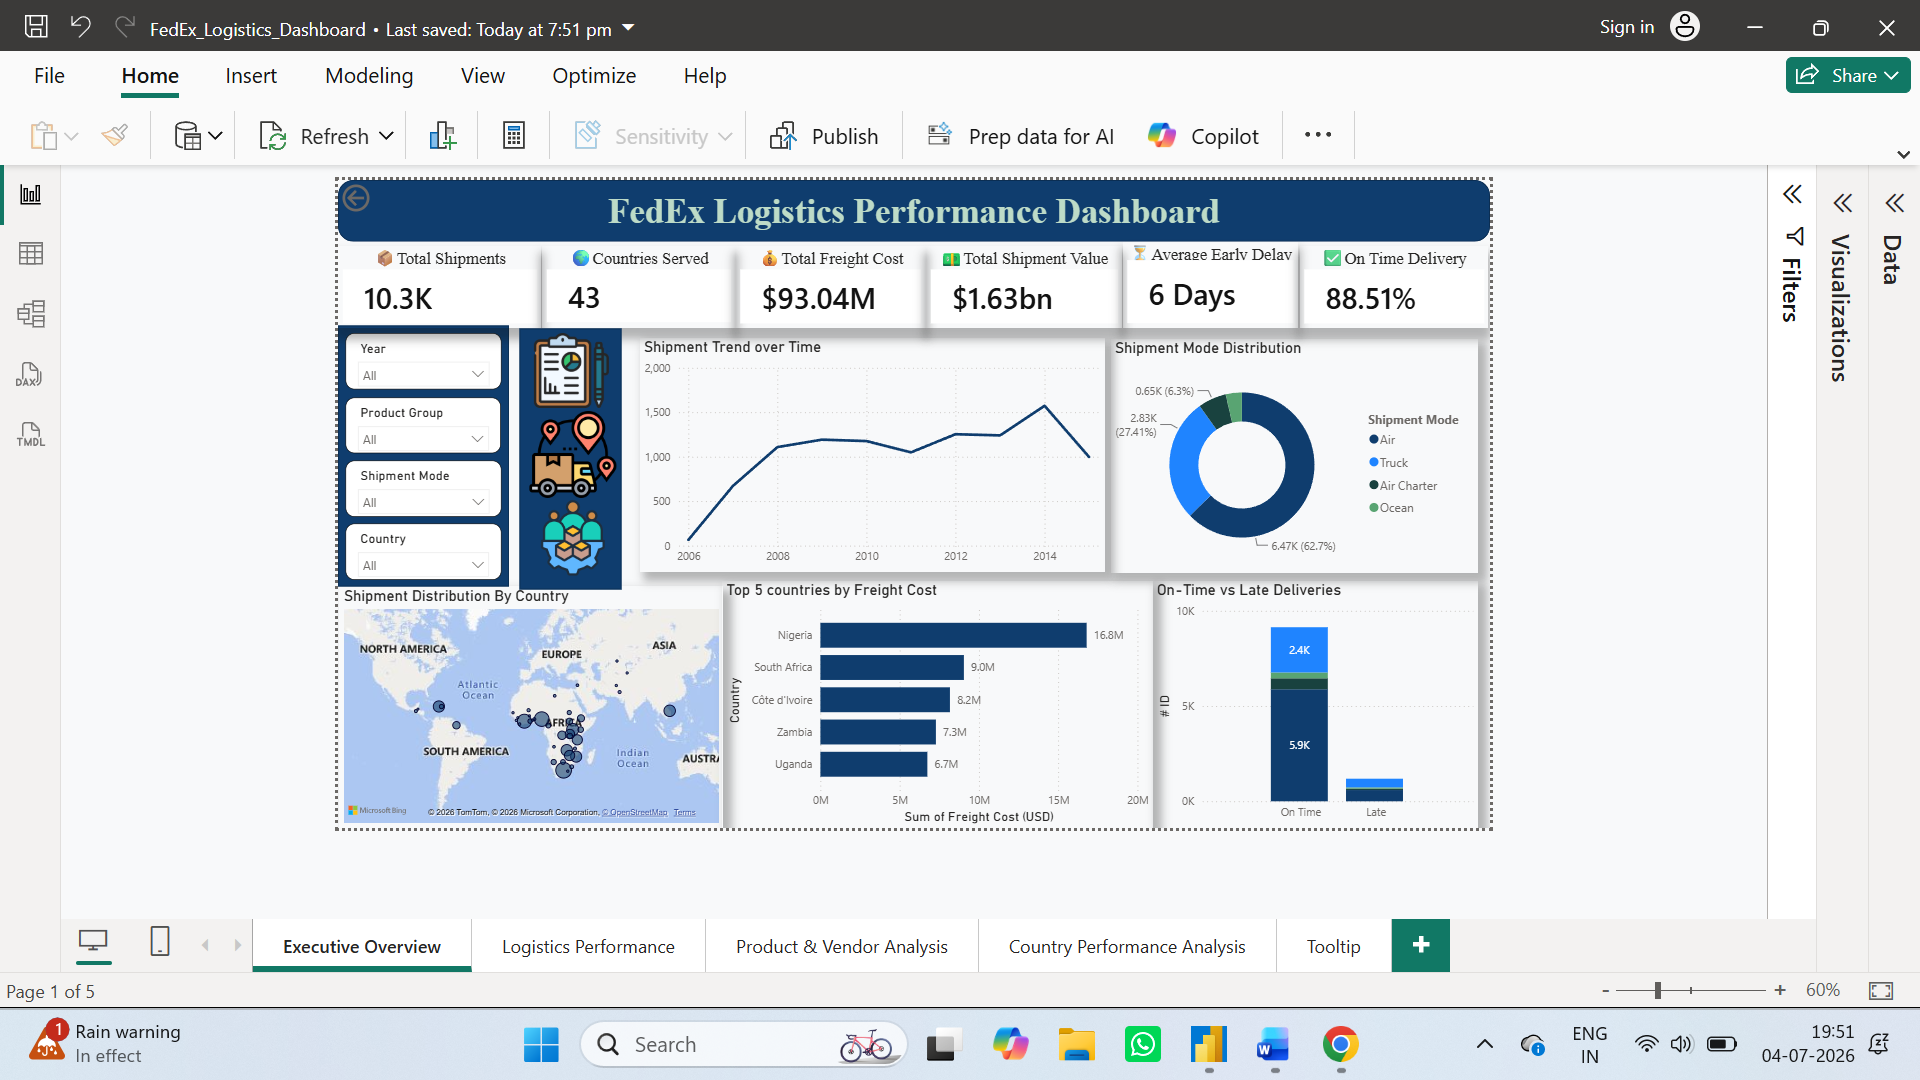

The page's visual inventory and layout, read from the dashboard file:
{"tool":"powerbi","page":{"name":"Executive Overview","canvas":[1280,720],"ordinal":0},"visuals":[{"type":"shape","box":[0,0,1280,68.5],"z":0},{"type":"cardVisual","title":"📦Total Shipments ","fields":{"Data":["CountNonNull(SCMS_Cleaned.ID)"]},"box":[0,74,226.2,91.2],"z":0,"group":"g2"},{"type":"shape","box":[0,162,190,290],"z":0,"group":"g1"},{"type":"shape","box":[201.7,165,113.3,290],"z":0,"group":"g3"},{"type":"cardVisual","title":"🌍Countries Served","fields":{"Data":["Count(SCMS_Cleaned.Country)"]},"box":[226.2,74,215.6,90.6],"z":1000,"group":"g2"},{"type":"lineChart","title":"Shipment Trend over Time","fields":{"Y":["CountNonNull(SCMS_Cleaned.ID)"],"Category":["Calendar.Date.Variation.Date Hierarchy.Year","Calendar.Date.Variation.Date Hierarchy.Quarter","Calendar.Date.Variation.Date Hierarchy.Month","Calendar.Date.Variation.Date Hierarchy.Day"]},"box":[334.4,175,517.2,260.9],"z":1000},{"type":"cardVisual","title":"💰Total Freight Cost","fields":{"Data":["Sum(SCMS_Cleaned.Freight Cost (USD))"]},"box":[441.9,74,211.9,91.2],"z":2000,"group":"g2"},{"type":"donutChart","title":"Shipment Mode Distribution","fields":{"Y":["CountNonNull(SCMS_Cleaned.ID)"],"Category":["SCMS_Cleaned.Shipment Mode"]},"box":[858.3,176.7,408.3,260],"z":2000},{"type":"cardVisual","title":"💵Total Shipment Value","fields":{"Data":["Sum(SCMS_Cleaned.Line Item Value)"]},"box":[653.8,74,218.1,91.2],"z":3000,"group":"g2"},{"type":"map","title":"Shipment Distribution By Country","fields":{"Category":["SCMS_Cleaned.Country"],"Size":["CountNonNull(SCMS_Cleaned.ID)"]},"box":[2,452,426,268],"z":3000},{"type":"cardVisual","title":"⏳Average Early Delay","fields":{"Data":["SCMS_Cleaned.Average Early Delivery"]},"box":[871.7,69,195,95.8],"z":4000,"group":"g2"},{"type":"barChart","title":"Top 5 countries by Freight Cost","fields":{"Category":["SCMS_Cleaned.Country"],"Y":["Sum(SCMS_Cleaned.Freight Cost (USD))"]},"box":[426.7,445,478.3,275],"z":4000},{"type":"cardVisual","title":"✅On Time Delivery","fields":{"Data":["SCMS_Cleaned.On Time Delivery %"]},"box":[1068.1,74,210,91.2],"z":5000,"group":"g2"},{"type":"columnChart","title":"On-Time vs Late Deliveries","fields":{"Category":["SCMS_Cleaned.Delivery Status"],"Y":["CountNonNull(SCMS_Cleaned.ID)"],"Series":["SCMS_Cleaned.Shipment Mode"]},"box":[905,445,361.7,275],"z":5000},{"type":"group","id":"g1","title":"Group 1","box":[0,162,190,290],"z":6000},{"type":"group","id":"g2","title":"Group 2","box":[0,69,1278.1,96.2],"z":7000},{"type":"group","id":"g3","title":"Group 3","box":[201.7,165,113.3,290],"z":8000},{"type":"slicer","fields":{"Values":["SCMS_Cleaned.Country"]},"box":[8,382,173.2,62.8],"z":8000,"group":"g1"},{"type":"actionButton","box":[0,0,100,40],"z":9000},{"type":"slicer","fields":{"Values":["Calendar.Year"]},"box":[8.3,170.3,173.3,62.5],"z":9000,"group":"g1"},{"type":"image","box":[206.7,256.7,108.3,96.7],"z":9000,"group":"g3"},{"type":"image","box":[211.7,170,95,83.3],"z":10000,"group":"g3"},{"type":"slicer","fields":{"Values":["SCMS_Cleaned.Shipment Mode"]},"box":[8,312.4,173.6,62.4],"z":11000,"group":"g1"},{"type":"image","box":[206.7,350,108.3,95],"z":11000,"group":"g3"},{"type":"slicer","fields":{"Values":["SCMS_Cleaned.Product Group"]},"box":[8,242.8,172.8,62],"z":12000,"group":"g1"}]}

Visuals, with their boxes on the page's 1280x720 design canvas (x1, y1, x2, y2). These are canvas units, not pixel positions in the 1920x1080 screenshot, which may show the page scaled, cropped or inside an application window:
shape: bbox=(0, 0, 1280, 68)
"📦Total Shipments " cardVisual: bbox=(0, 74, 226, 165)
shape: bbox=(0, 162, 190, 452)
shape: bbox=(202, 165, 315, 455)
"🌍Countries Served" cardVisual: bbox=(226, 74, 442, 165)
"Shipment Trend over Time" lineChart: bbox=(334, 175, 852, 436)
"💰Total Freight Cost" cardVisual: bbox=(442, 74, 654, 165)
"Shipment Mode Distribution" donutChart: bbox=(858, 177, 1267, 437)
"💵Total Shipment Value" cardVisual: bbox=(654, 74, 872, 165)
"Shipment Distribution By Country" map: bbox=(2, 452, 428, 720)
"⏳Average Early Delay" cardVisual: bbox=(872, 69, 1067, 165)
"Top 5 countries by Freight Cost" barChart: bbox=(427, 445, 905, 720)
"✅On Time Delivery" cardVisual: bbox=(1068, 74, 1278, 165)
"On-Time vs Late Deliveries" columnChart: bbox=(905, 445, 1267, 720)
"Group 1" group: bbox=(0, 162, 190, 452)
"Group 2" group: bbox=(0, 69, 1278, 165)
"Group 3" group: bbox=(202, 165, 315, 455)
slicer - SCMS_Cleaned.Country: bbox=(8, 382, 181, 445)
actionButton: bbox=(0, 0, 100, 40)
slicer - Calendar.Year: bbox=(8, 170, 182, 233)
image: bbox=(207, 257, 315, 353)
image: bbox=(212, 170, 307, 253)
slicer - SCMS_Cleaned.Shipment Mode: bbox=(8, 312, 182, 375)
image: bbox=(207, 350, 315, 445)
slicer - SCMS_Cleaned.Product Group: bbox=(8, 243, 181, 305)
